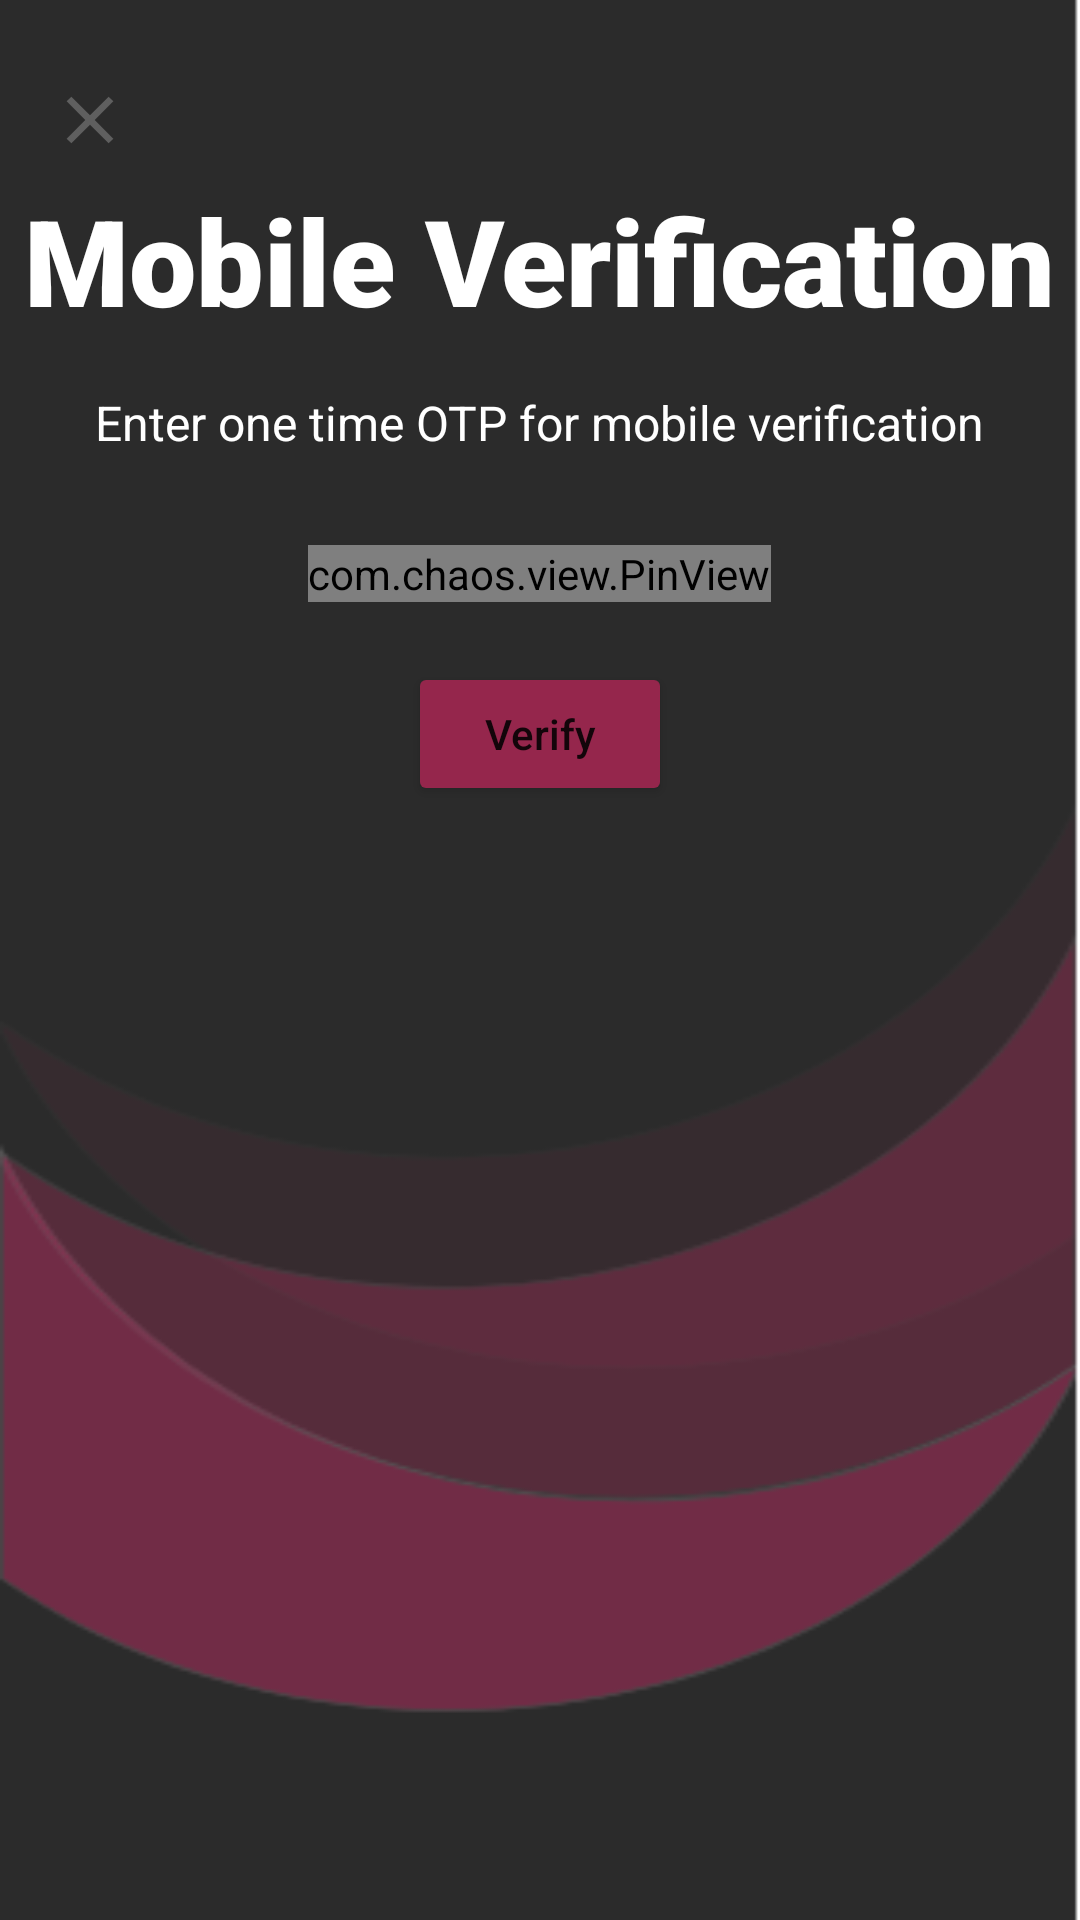

Where to tap for icons on this 1080 × 1920 app screen, as [x,y]:
closeicon: [90,120]
